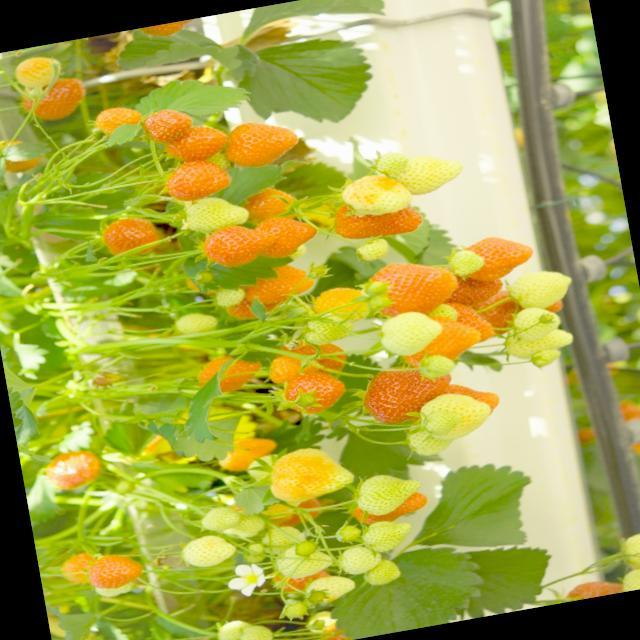ripe: (352, 358, 454, 428), (362, 251, 459, 324), (325, 189, 424, 243), (459, 226, 541, 282), (224, 113, 302, 168), (195, 218, 271, 273), (21, 71, 98, 121), (236, 254, 312, 304), (278, 366, 352, 417), (161, 155, 236, 204), (42, 443, 108, 491), (255, 210, 318, 258), (192, 350, 260, 394), (81, 549, 146, 593), (98, 210, 163, 254), (161, 121, 228, 163), (237, 182, 299, 220), (142, 104, 193, 141), (92, 100, 142, 136), (560, 575, 620, 602), (61, 551, 100, 581)
unripe: (260, 441, 354, 502), (412, 385, 497, 447), (331, 167, 412, 224), (504, 263, 578, 314), (349, 468, 425, 516), (398, 146, 468, 198), (174, 192, 252, 238), (500, 324, 578, 359), (178, 528, 236, 572), (508, 301, 562, 344), (364, 516, 422, 554), (404, 417, 462, 455), (248, 518, 306, 556), (276, 543, 334, 579), (298, 570, 356, 606), (334, 538, 384, 576), (168, 306, 220, 340), (358, 556, 404, 590), (607, 526, 640, 573), (198, 501, 240, 533), (208, 614, 255, 640), (418, 410, 458, 440), (212, 280, 250, 310), (367, 147, 406, 175), (522, 346, 560, 374), (235, 619, 278, 640), (616, 562, 640, 591)
